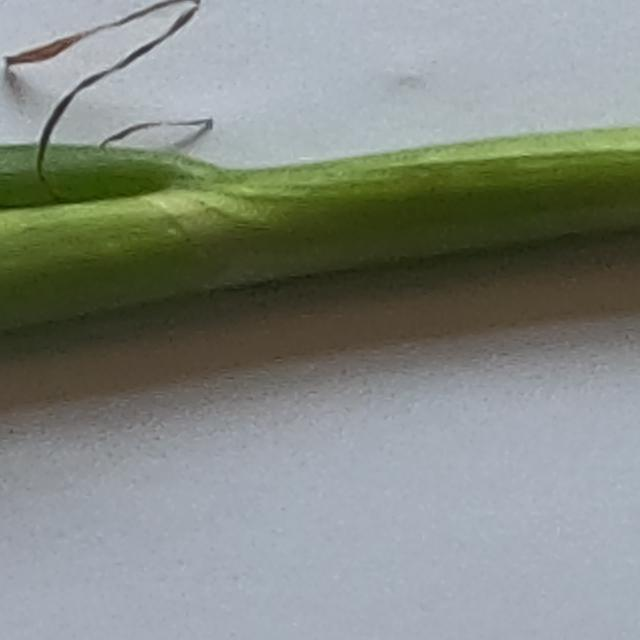green_onion: (0, 125, 640, 359)
